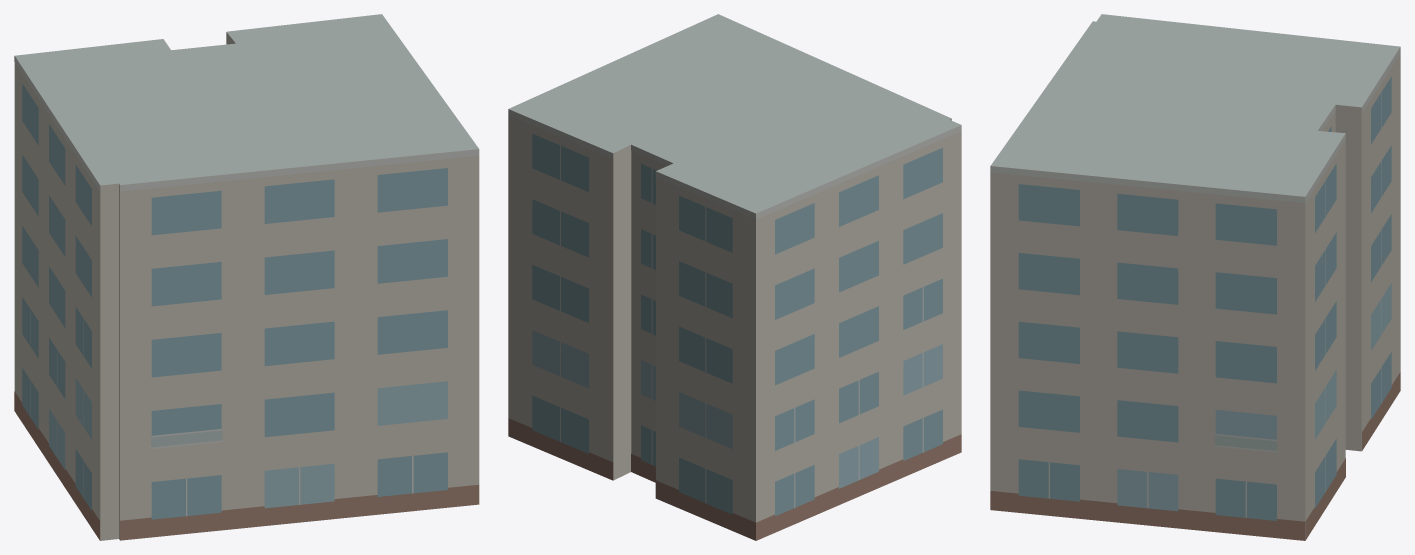
The model's file is survey-upis-32809458.glb.
3 views of the same model, side by side, from view 1: azimuth 30°, elevation 25°; view 2: azimuth 150°, elevation 25°; view 3: azimuth 270°, elevation 25° (orthographic). The views are drawn at different scales.
Visible parts, largest first — view 1: survey-upis-32809458.tmp; view 2: survey-upis-32809458.tmp; view 3: survey-upis-32809458.tmp.
Part boxes in pixels (bbox=[...]): survey-upis-32809458.tmp: bbox=[14, 14, 479, 540]; survey-upis-32809458.tmp: bbox=[508, 14, 961, 540]; survey-upis-32809458.tmp: bbox=[990, 14, 1400, 540].
Size of the model in its own units: 15.17 by 13.3 by 14.38.
